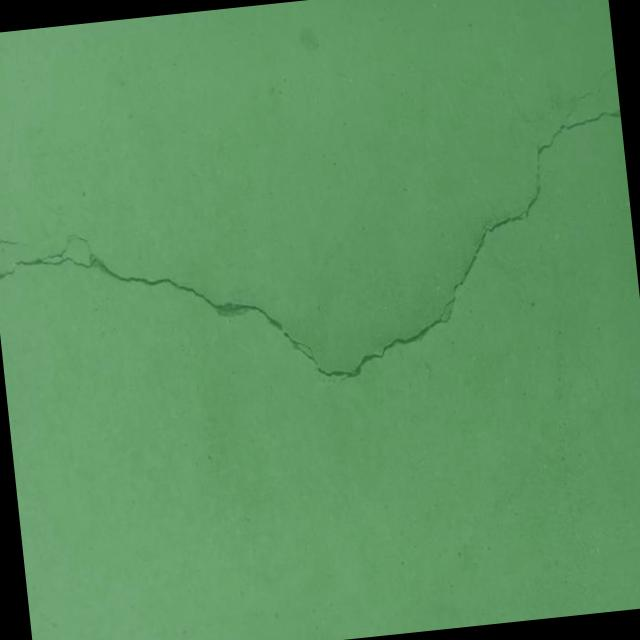crack: (6, 108, 640, 415), (562, 66, 620, 117), (0, 236, 29, 250), (0, 270, 15, 283)
